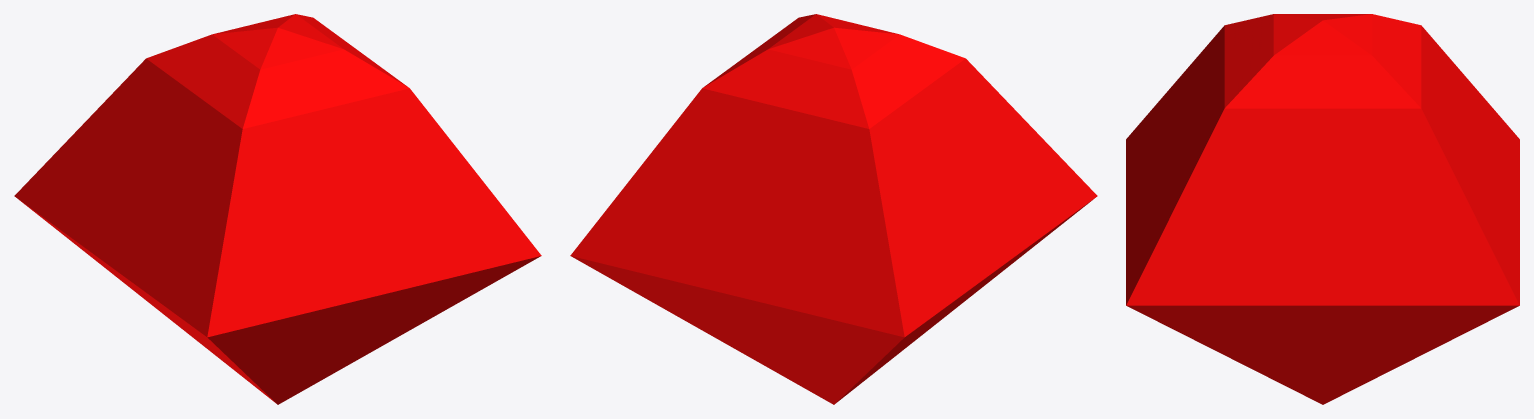
File: UmbrellaTrunkBase.fbx
The picture shows the model from 3 angles, left to right: view 1: azimuth 30°, elevation 25°; view 2: azimuth 150°, elevation 25°; view 3: azimuth 270°, elevation 25°; orthographic projection.
Parts seen in each view (by area): view 1: Model; view 2: Model; view 3: Model.
Part boxes in pixels (x1,y1,x2,y2): Model: (14, 14, 541, 404); Model: (570, 14, 1097, 404); Model: (1126, 14, 1519, 404).
Bounding box in the file's own units: 20 × 21.56 × 20.
